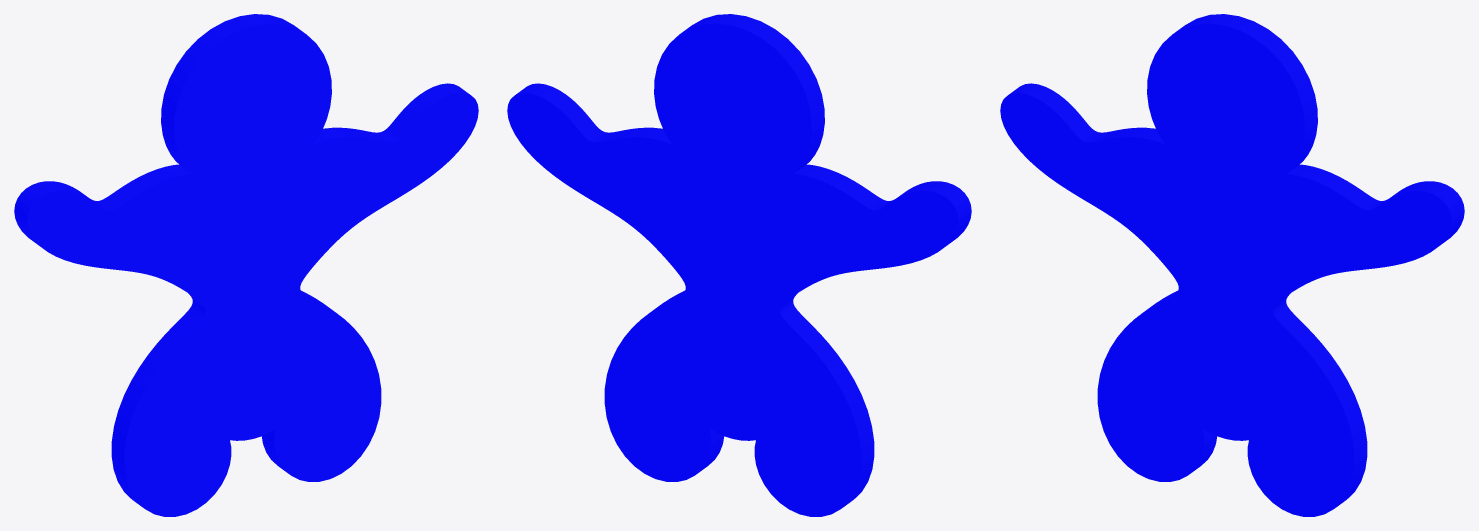
The model's file is Athlete.glb.
3 renders of one model, left to right at view 1: azimuth 30°, elevation 25°; view 2: azimuth 150°, elevation 25°; view 3: azimuth 330°, elevation 25°, orthographic.
Size of the model in its own units: 1 by 1 by 0.05.
